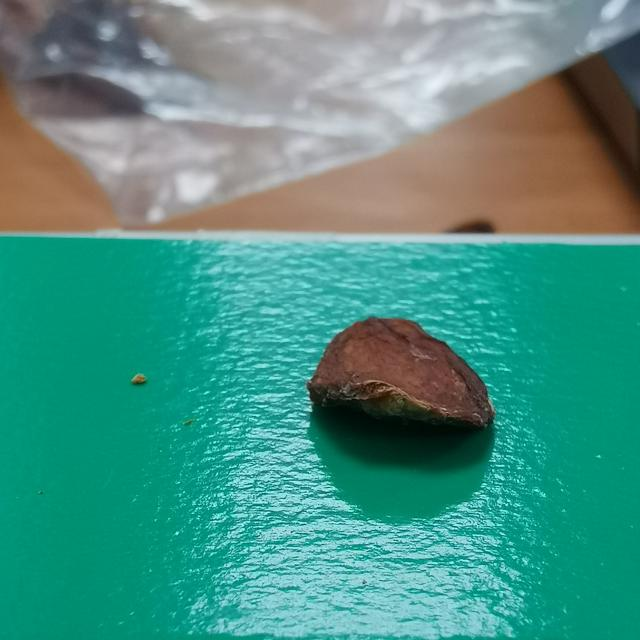Flat_cocoabeans: (208, 277, 612, 524)
